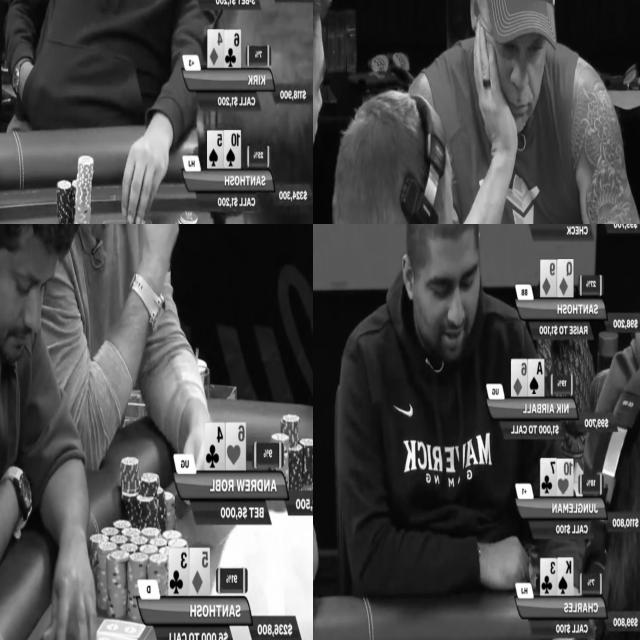10H: (556, 459, 574, 495)
10S: (224, 130, 241, 167)
3C: (170, 548, 188, 595), (540, 559, 556, 595)
4C: (206, 424, 224, 470)
4D: (207, 29, 224, 67)
5D: (190, 548, 210, 595)
5S: (207, 131, 224, 168)
6C: (224, 30, 241, 68)
6D: (511, 361, 527, 396)
6H: (226, 423, 245, 470)
7C: (540, 458, 556, 497)
9D: (542, 260, 556, 297)
AS: (528, 360, 545, 394)
KS: (558, 558, 573, 596)
QD: (558, 260, 574, 298)
